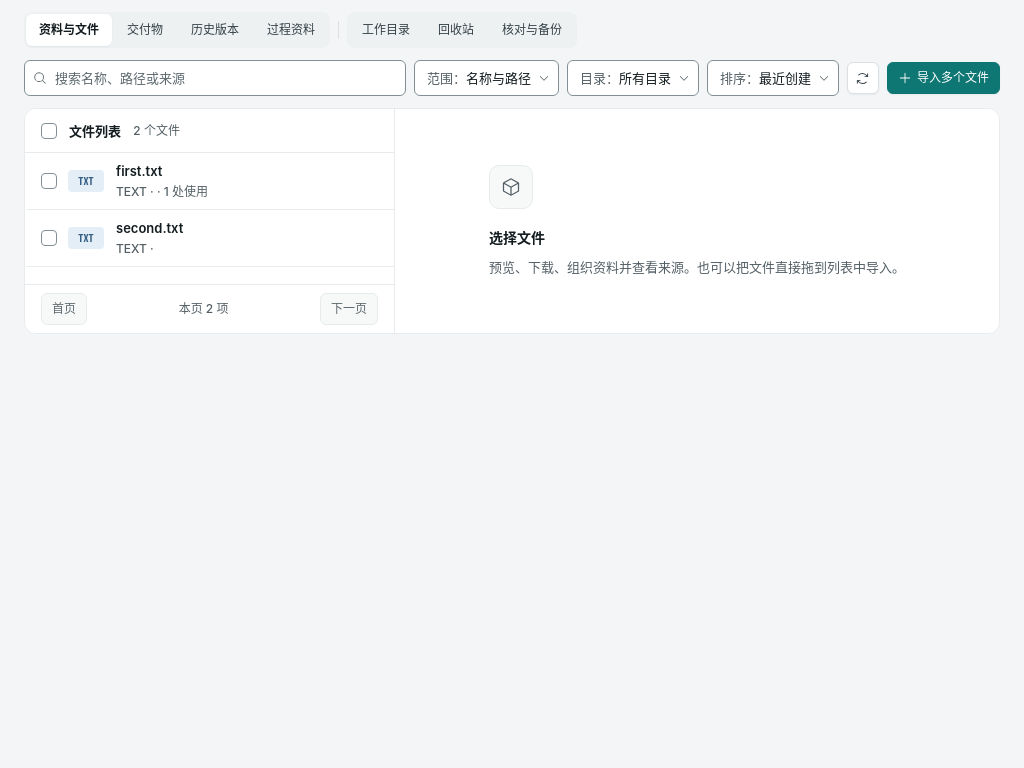
file workspace › uses the managed identity when importing knowledge, preserving the original
Click the button "first.txt TEXT · · 1 处使用" at (139, 171), box [116,161,378,201]
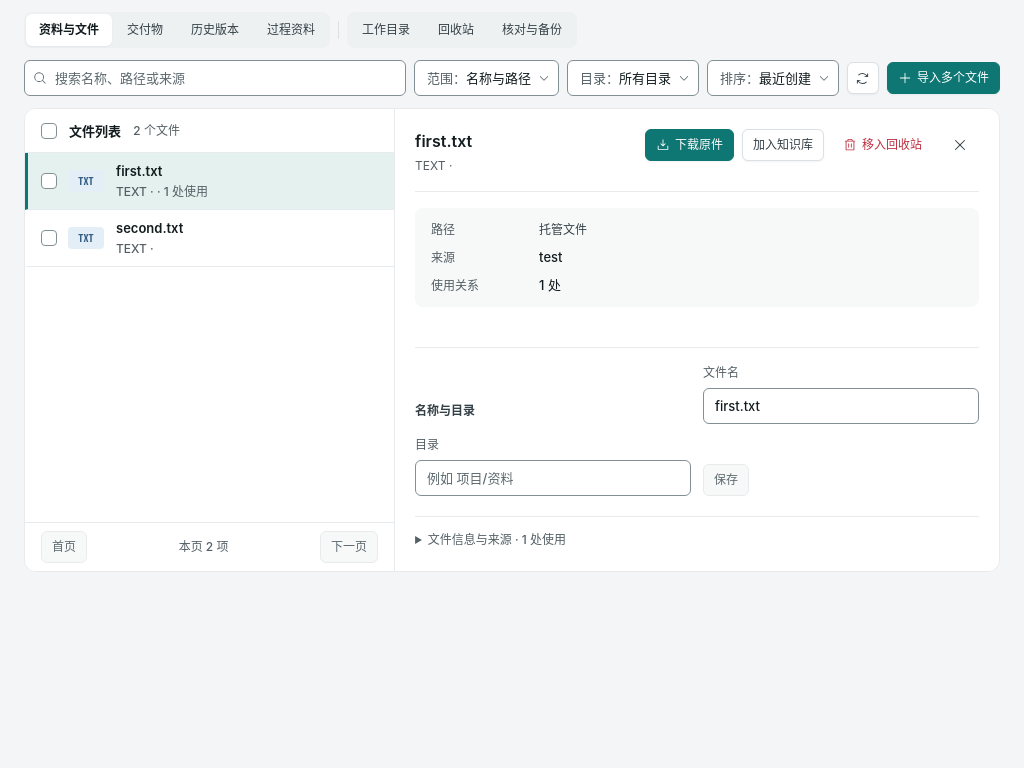
Click the button "加入知识库" at (783, 145), box [742,129,824,161]
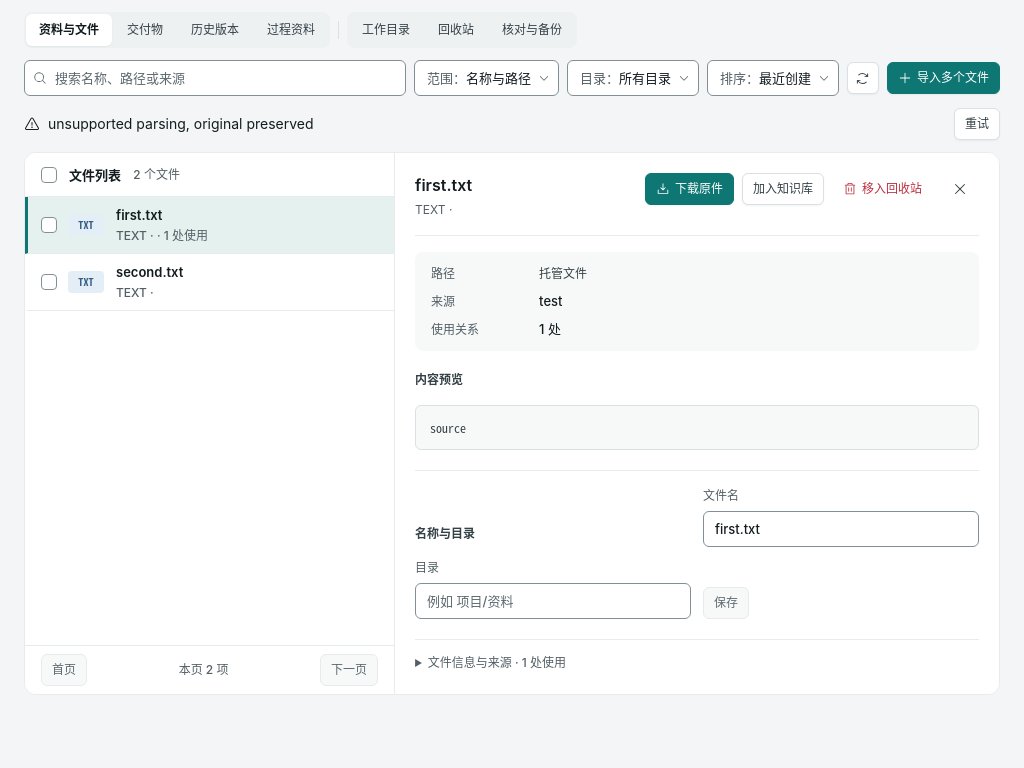
Now the link "下载原件" is shown, box [645,173,734,205]
Now the text "unsupported parsing, original preserved" is shown, box [48,115,314,132]
